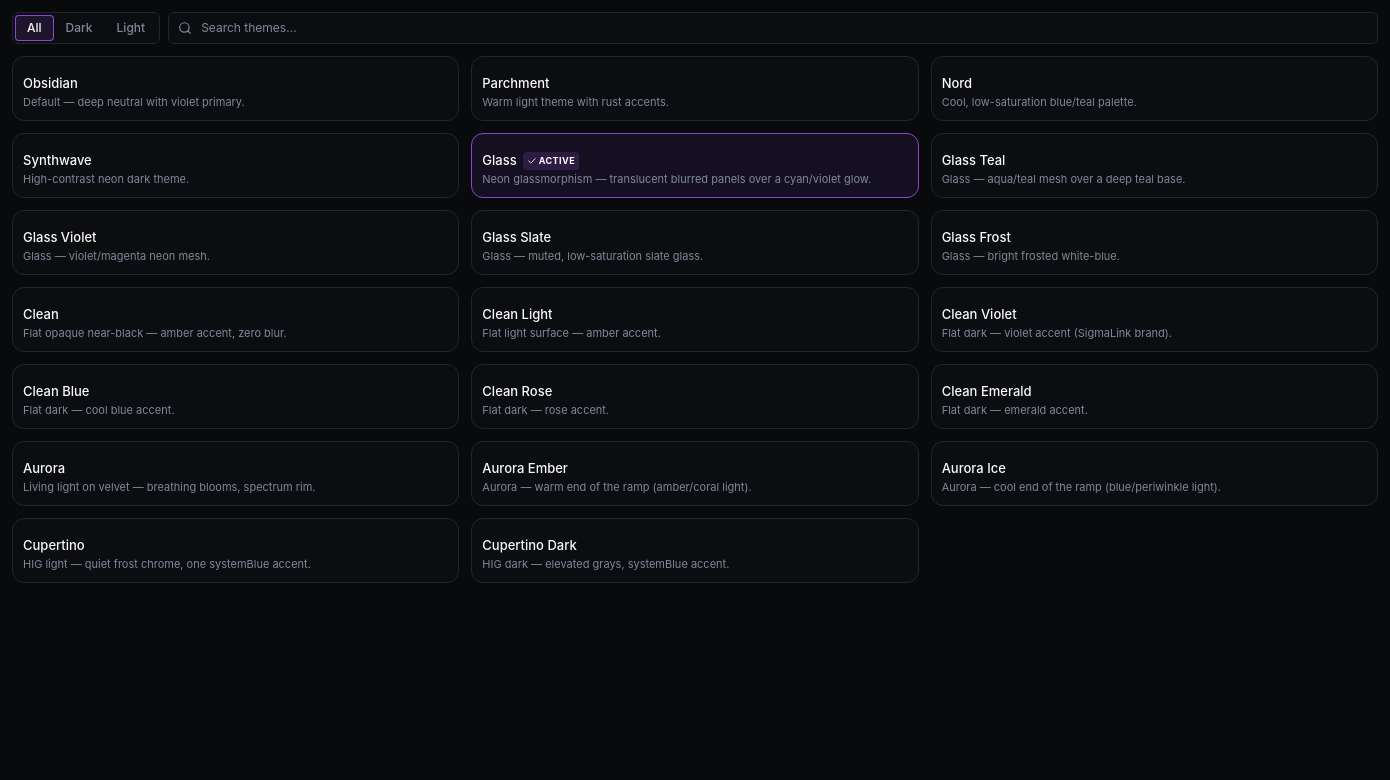
Test: ThemeGallery › All/Dark/Light filter narrows by appearance
The width and height of the screenshot is (1390, 780).
Expected: the button with test id "theme-card-glass" is shown, [471,133,919,198]
Expected: the button with test id "theme-card-clean-light" is shown, [471,287,919,352]
What coordinates should you click on to do the following:
click the button "Light"
I would click on:
 (131, 28)
Its box is [105,15,157,41].
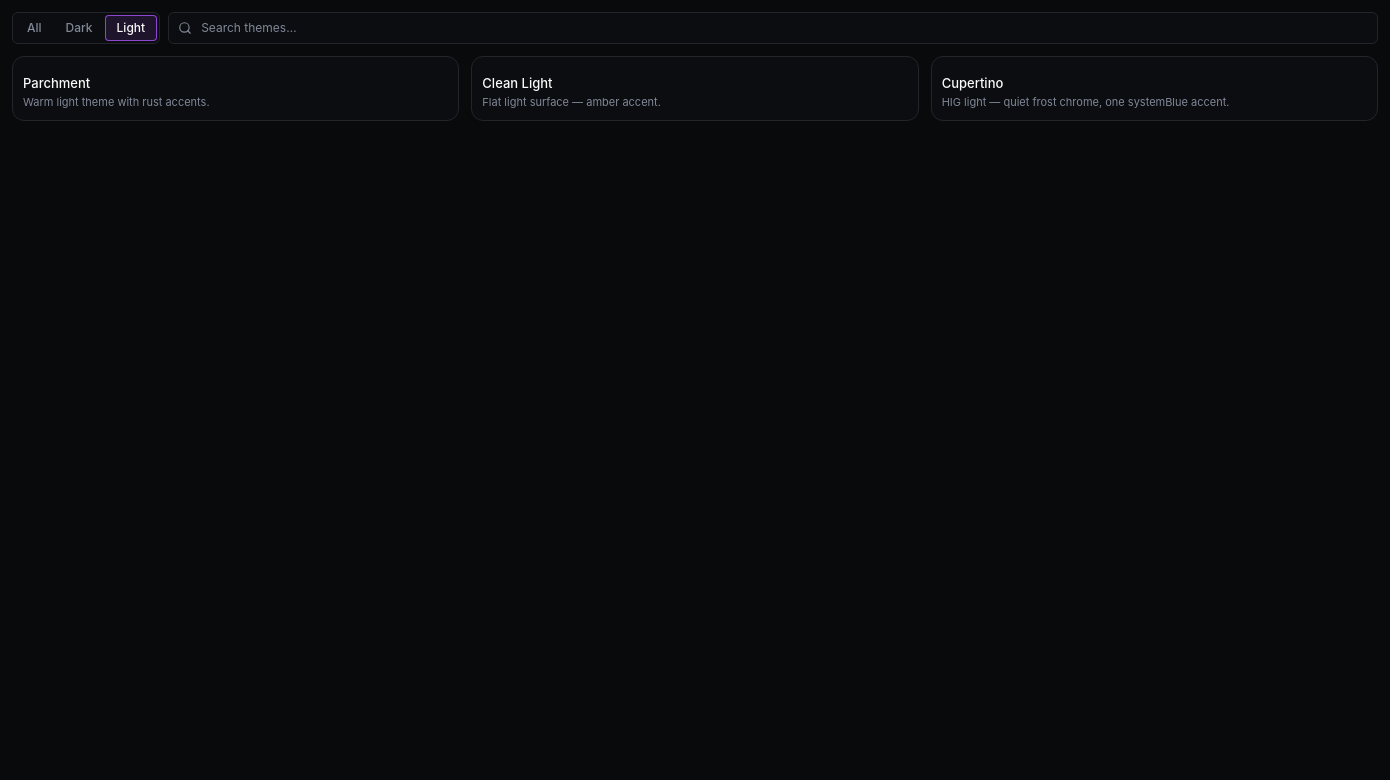
Expected: the button with test id "theme-card-clean-light" is shown, [471,56,919,121]
Expected: the button with test id "theme-card-glass" is gone
